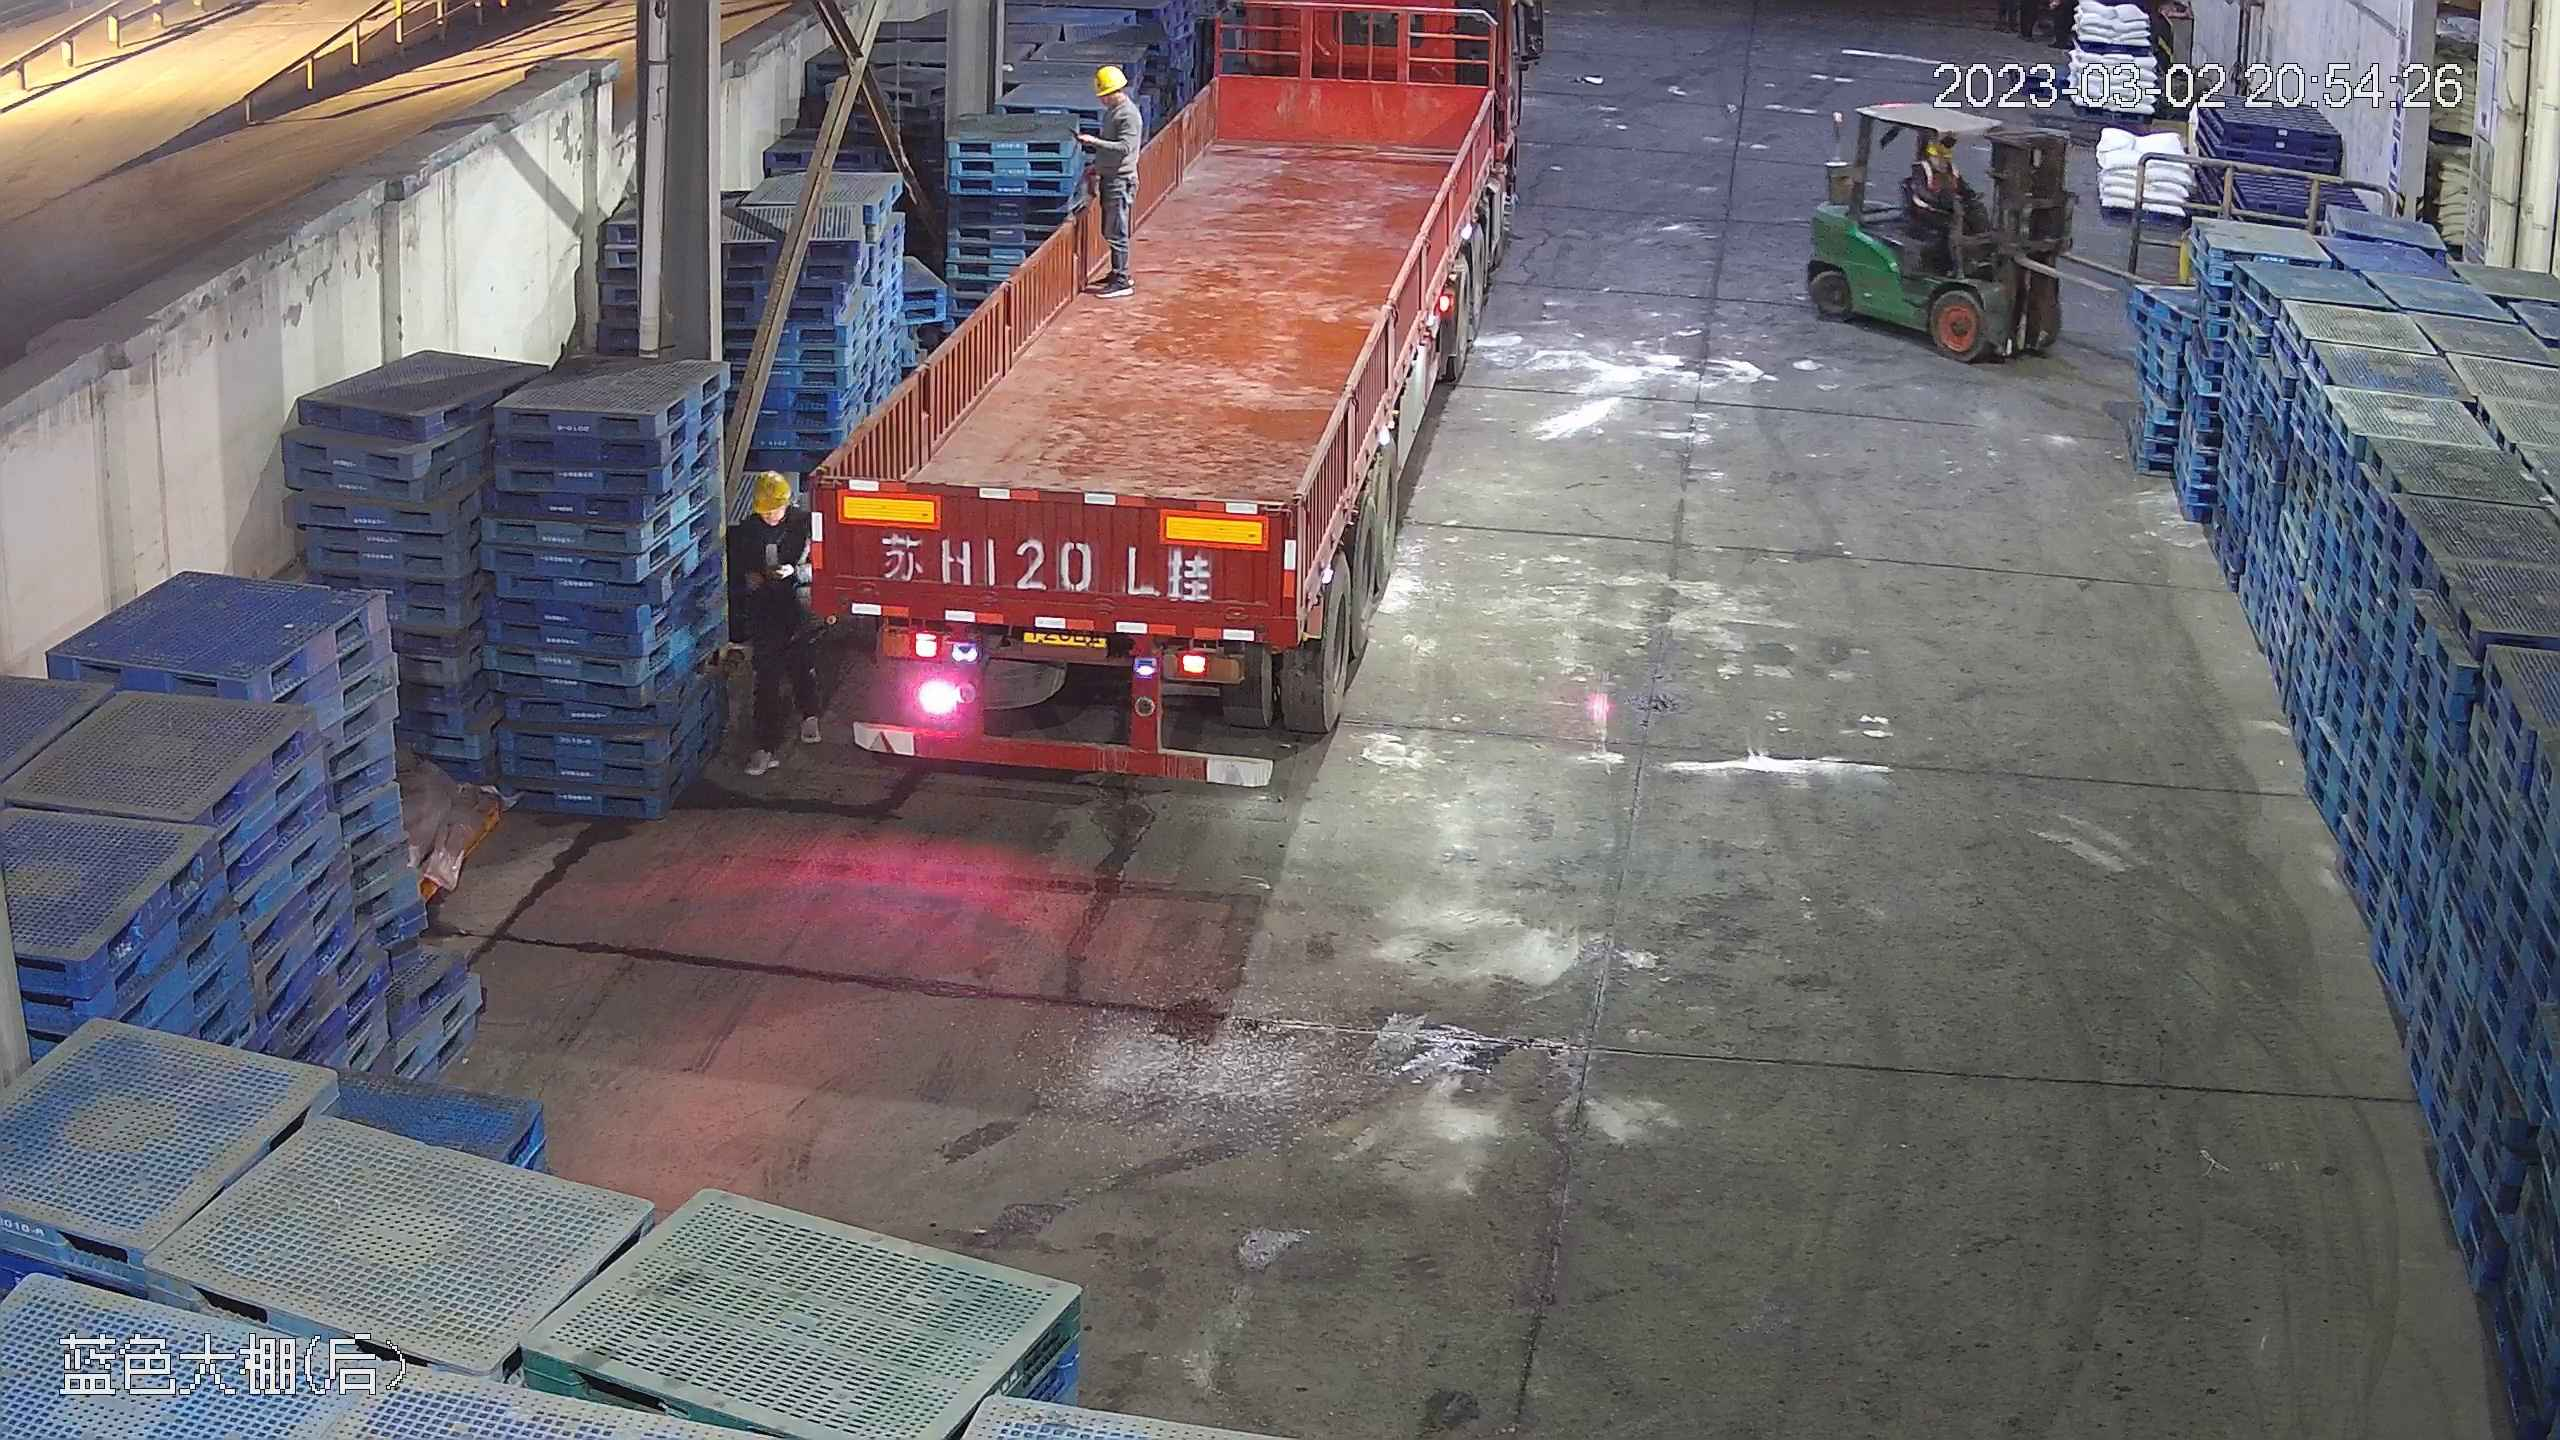belt: (745, 517, 808, 576)
head: (731, 469, 820, 559), (1079, 61, 1142, 135), (1910, 134, 1964, 193)
helmet: (748, 468, 795, 512), (1093, 63, 1124, 94), (1922, 133, 1953, 159)
people: (719, 467, 832, 776), (1071, 57, 1147, 293), (1905, 135, 1983, 261)
truck: (791, 9, 1533, 787)
